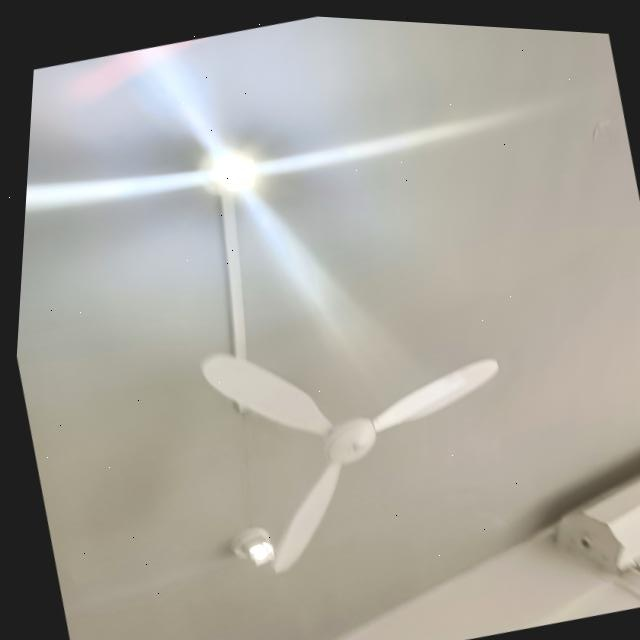fluorescent tube: (149, 105, 331, 239), (172, 499, 328, 596)
